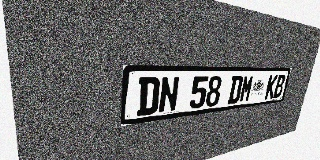5: (189, 76, 209, 109)
8: (205, 76, 223, 107)
B: (273, 75, 286, 98)
D: (137, 77, 160, 116), (227, 75, 244, 104)
K: (264, 75, 278, 99)
M: (239, 75, 255, 103)
N: (158, 77, 180, 113)
